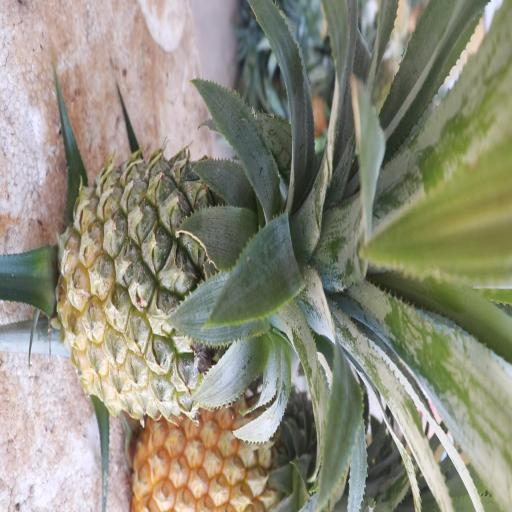------------------------------: (68, 152, 340, 416)
Pineapple - v8 v1: (135, 402, 320, 512)
